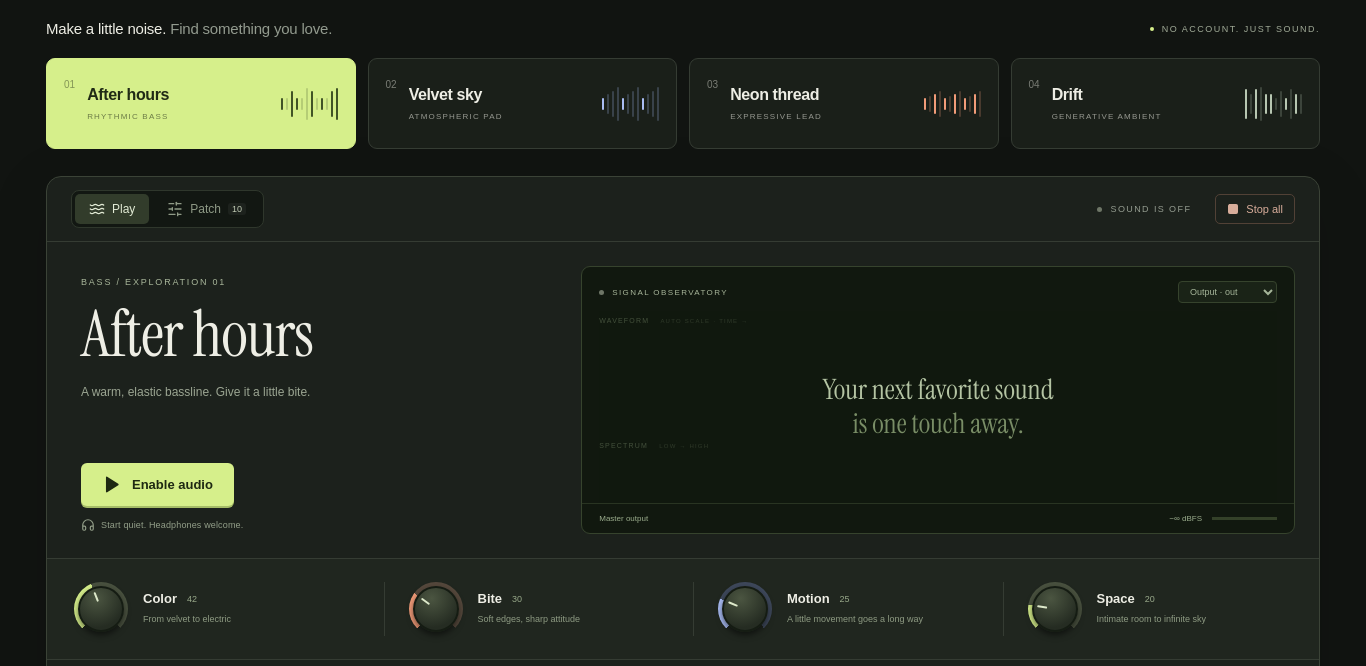
Test: Patchbay app flows › panics when switching presets and shows chord pads for Pad
The width and height of the screenshot is (1366, 666).
Click the button with aria-label "Load Velvet sky pad patch" at [445, 94], box [368,58,677,149]
(page scrolled)
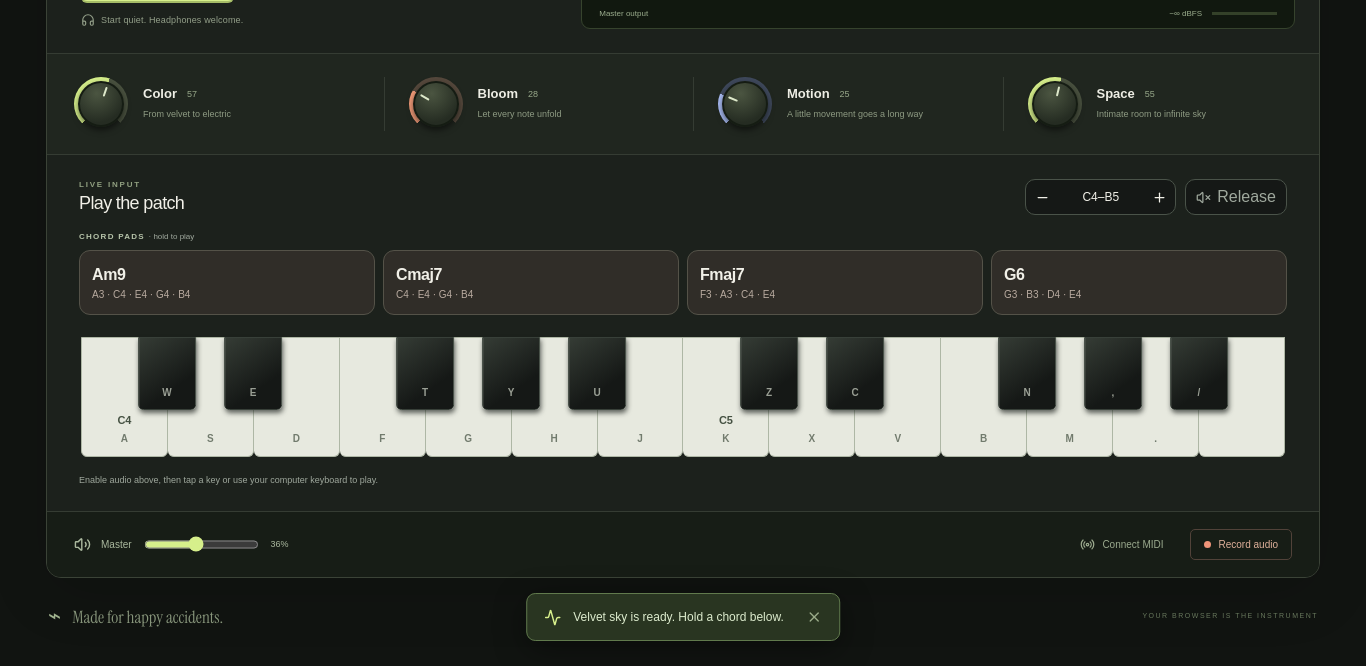
Check: the button with aria-label "Hold Am9 chord" is shown, box [79,250,375,315]
Check: the button with aria-label "Hold Cmaj7 chord" is shown, box [383,250,679,315]
